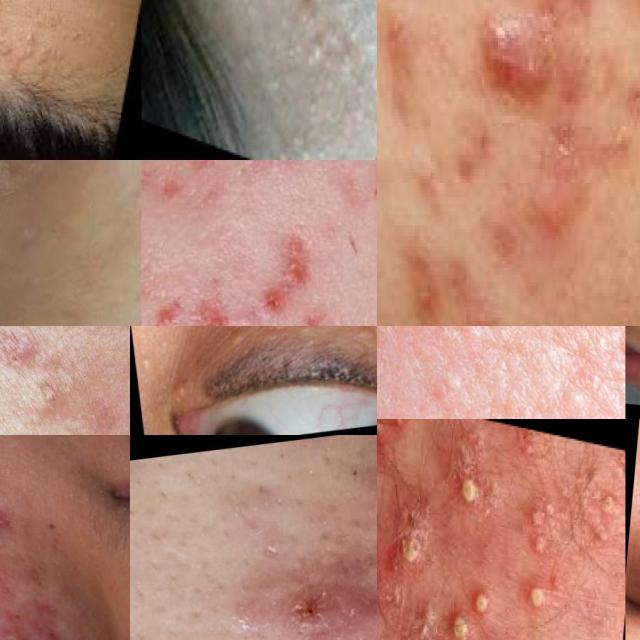acne_scars: (252, 227, 323, 326), (0, 505, 18, 542)
comedone: (266, 105, 331, 160), (233, 0, 268, 15)
cystic: (477, 0, 547, 115)
flat_wart: (0, 17, 49, 98), (219, 326, 291, 356)
folliculitis: (508, 484, 562, 564), (445, 457, 496, 523), (586, 476, 621, 554), (515, 564, 561, 622), (468, 576, 498, 625), (442, 601, 476, 640)
milium: (134, 341, 161, 383)
papule: (246, 554, 377, 640), (401, 257, 449, 326), (538, 190, 578, 244), (285, 0, 330, 39), (251, 160, 317, 178), (461, 303, 512, 326)
pustule: (142, 160, 177, 225), (377, 418, 398, 455)
sebo-crystan-conglo: (382, 478, 441, 586), (0, 613, 32, 640)
